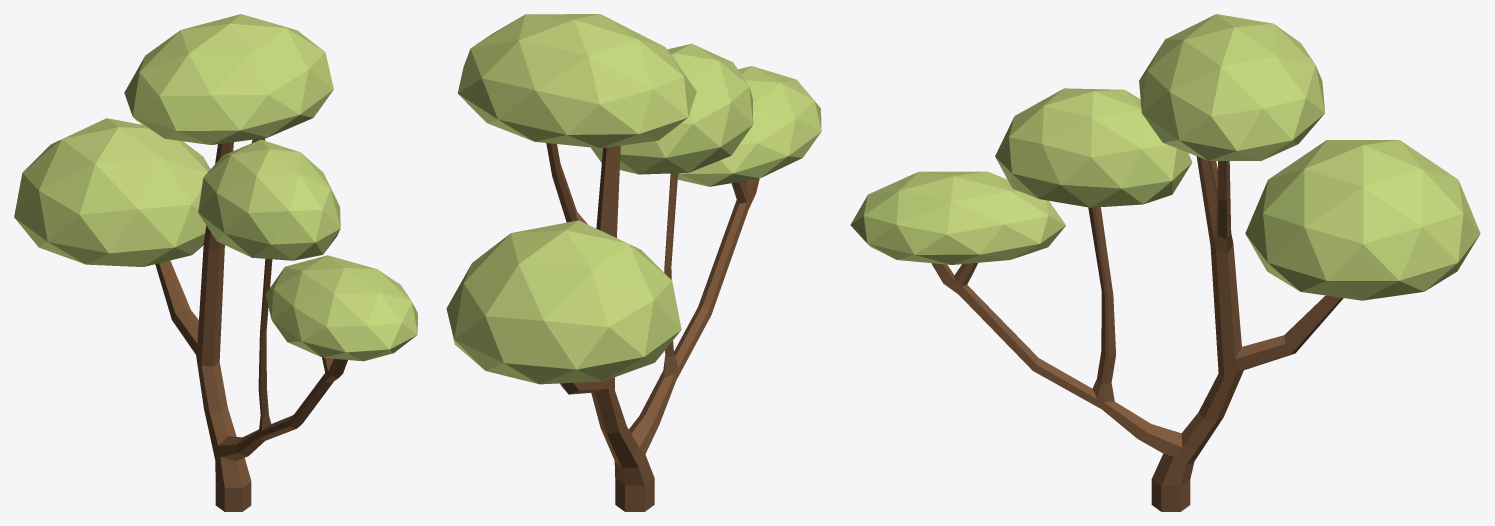
Rendered from quaternius-nature-lite-tree4.glb.
The picture shows the model from 3 angles, left to right: view 1: azimuth 30°, elevation 25°; view 2: azimuth 150°, elevation 25°; view 3: azimuth 270°, elevation 25°; orthographic projection. The views are drawn at different scales.
Parts seen in each view (by area): view 1: Tree4; view 2: Tree4; view 3: Tree4.
Part boxes in pixels (left/top/right/bottom): Tree4: left=14, top=14, right=417, bottom=511; Tree4: left=446, top=14, right=821, bottom=511; Tree4: left=850, top=14, right=1480, bottom=511.
Size of the model in its own units: 3.77 by 6.85 by 7.96.
